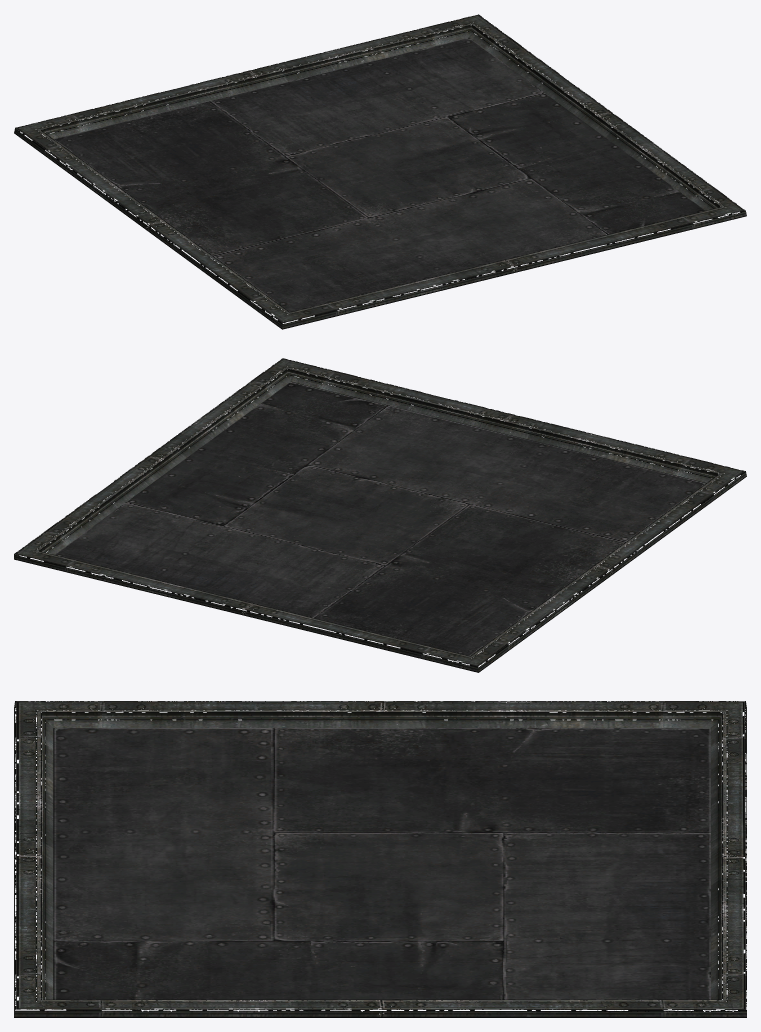
Rendered from tesla_modules1_ceiling_square_01.dae.
The picture shows the model from 3 angles, top to bottom: view 1: azimuth 30°, elevation 25°; view 2: azimuth 150°, elevation 25°; view 3: azimuth 270°, elevation 25°; orthographic projection. The views are drawn at different scales.
Parts seen in each view (by area): view 1: ceiling_square_01, ceiling_square_01_frame; view 2: ceiling_square_01, ceiling_square_01_frame; view 3: ceiling_square_01, ceiling_square_01_frame.
Boxes of the visible parts, x1,y1,x2,y2 form: ceiling_square_01: (53, 37, 705, 312); ceiling_square_01_frame: (14, 14, 746, 329); ceiling_square_01: (54, 381, 706, 655); ceiling_square_01_frame: (14, 358, 746, 672); ceiling_square_01: (53, 728, 710, 999); ceiling_square_01_frame: (14, 701, 746, 1017).
Bounding box in the file's own units: 4.01 × 0.0672 × 4.01.
